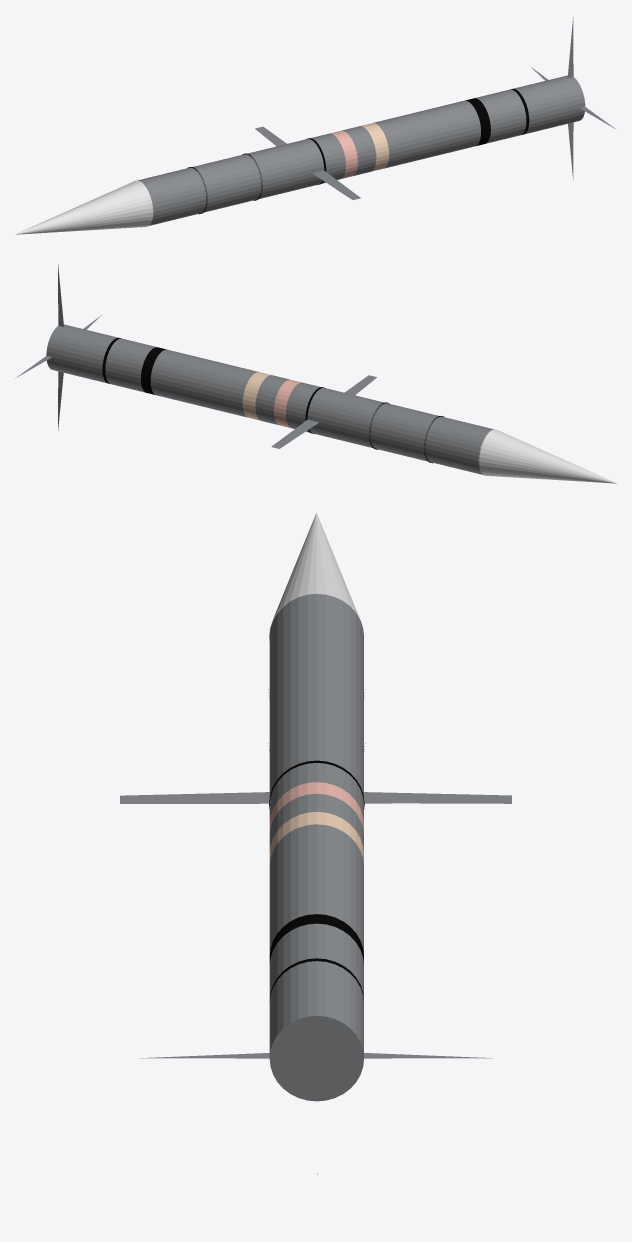
Rendered from nedokingal.fbx.
3 views of the same model, one above another, from view 1: azimuth 30°, elevation 25°; view 2: azimuth 150°, elevation 25°; view 3: azimuth 270°, elevation 25° (orthographic). The views are drawn at different scales.
Visible parts, largest first — view 1: недо кінжал; view 2: недо кінжал; view 3: недо кінжал.
Part boxes in pixels (box(x1,y1,x2,y2)): недо кінжал: box(15, 17, 616, 234); недо кінжал: box(15, 264, 617, 483); недо кінжал: box(120, 513, 511, 1174).
Bounding box in the file's own units: 3089 × 888 × 937.
